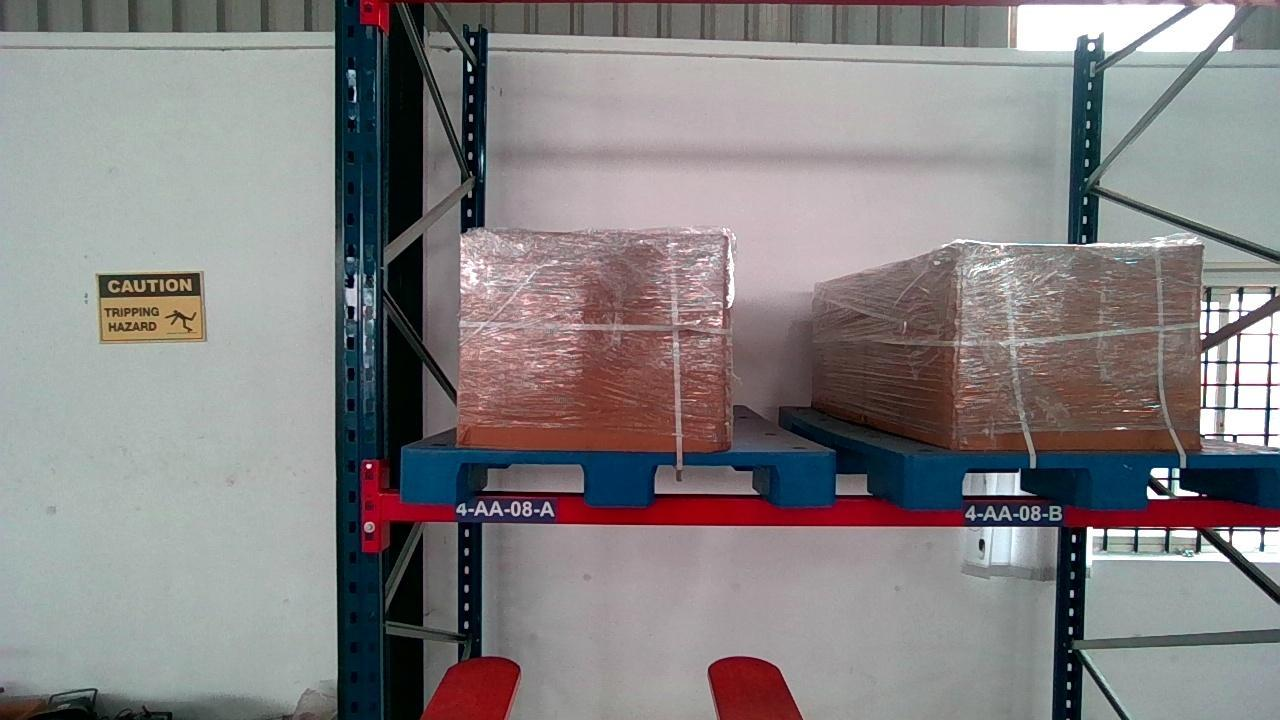h_rack: (381, 494, 1278, 526)
small_pallet: (400, 451, 834, 507), (904, 453, 1278, 509)
